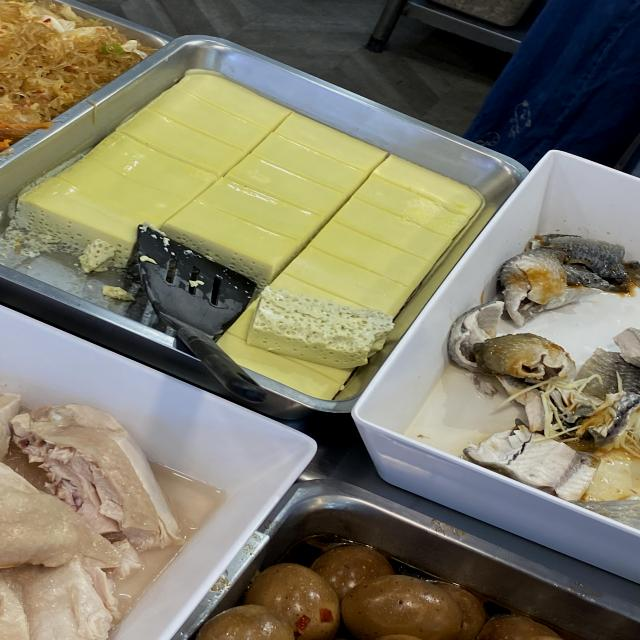steamed egg: (108, 127, 346, 229)
